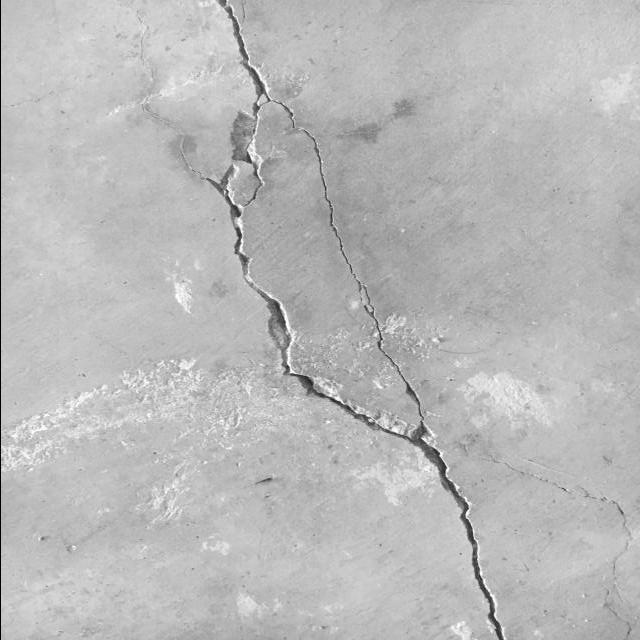SurfaceCrack: (179, 0, 613, 639)
